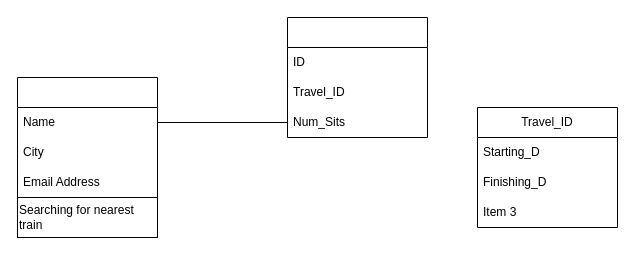
This 635x263 diagram has some shape labels left out. Each missing label, with the box of its shape:
Trains: (286, 16, 428, 138)
User: (16, 76, 158, 238)
